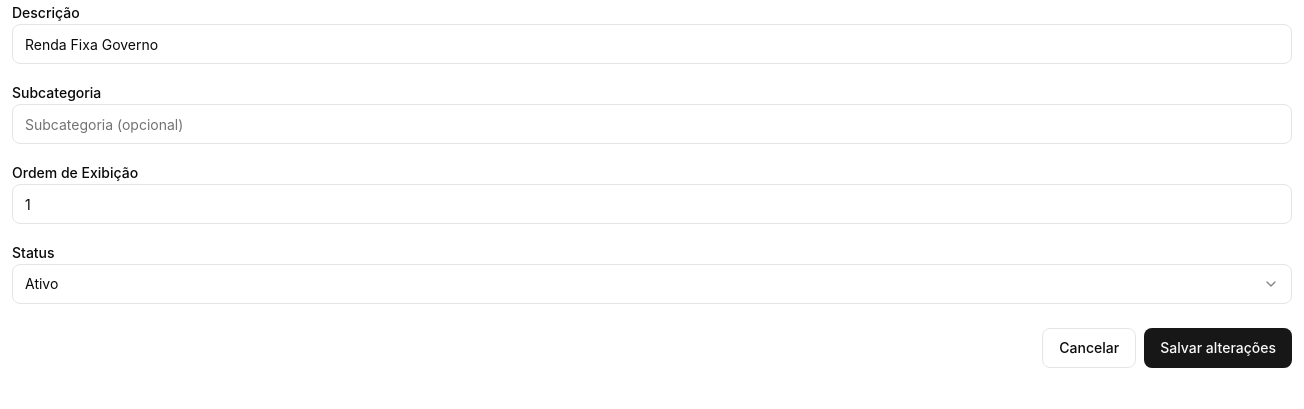
it: TipoAtivoForm — edit mode › shows validation error when Descrição cleared and submitted
The width and height of the screenshot is (1304, 409).
Step 1. Clear the field labelled "Descrição" → (652,44), box left=12, top=24, right=1292, bottom=64
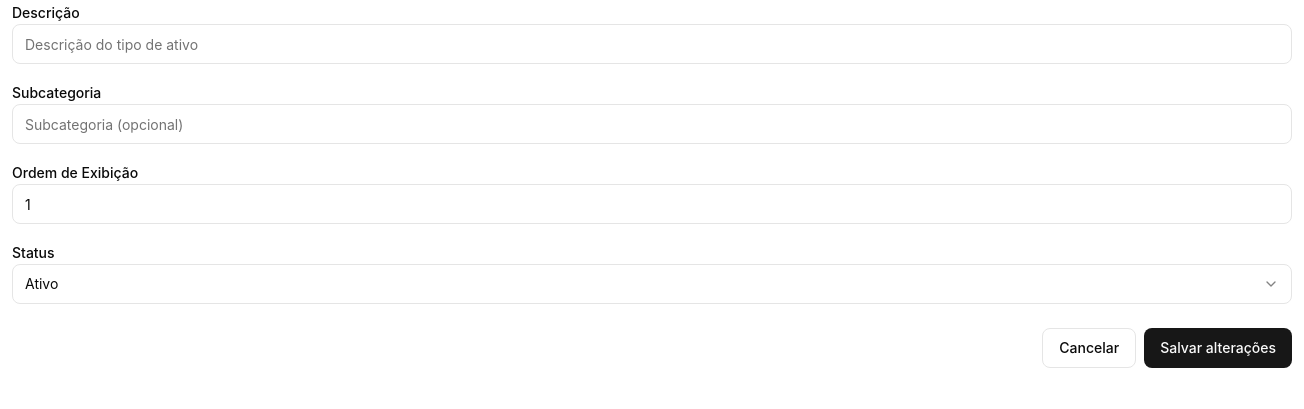
Step 2. Click the button "Salvar alterações" → (1218,348), box left=1144, top=328, right=1292, bottom=368
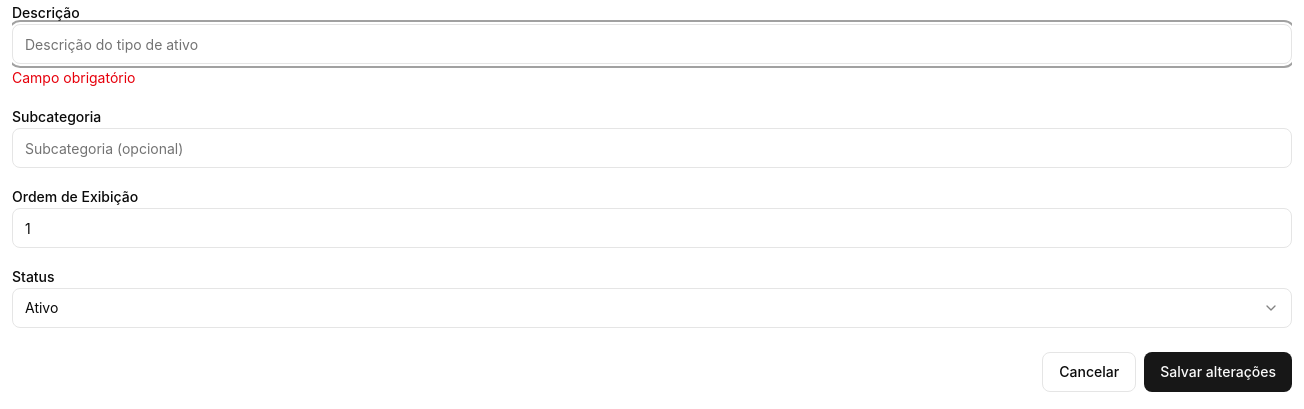
Now the message "Campo obrigatório" is shown, box left=12, top=69, right=136, bottom=86
